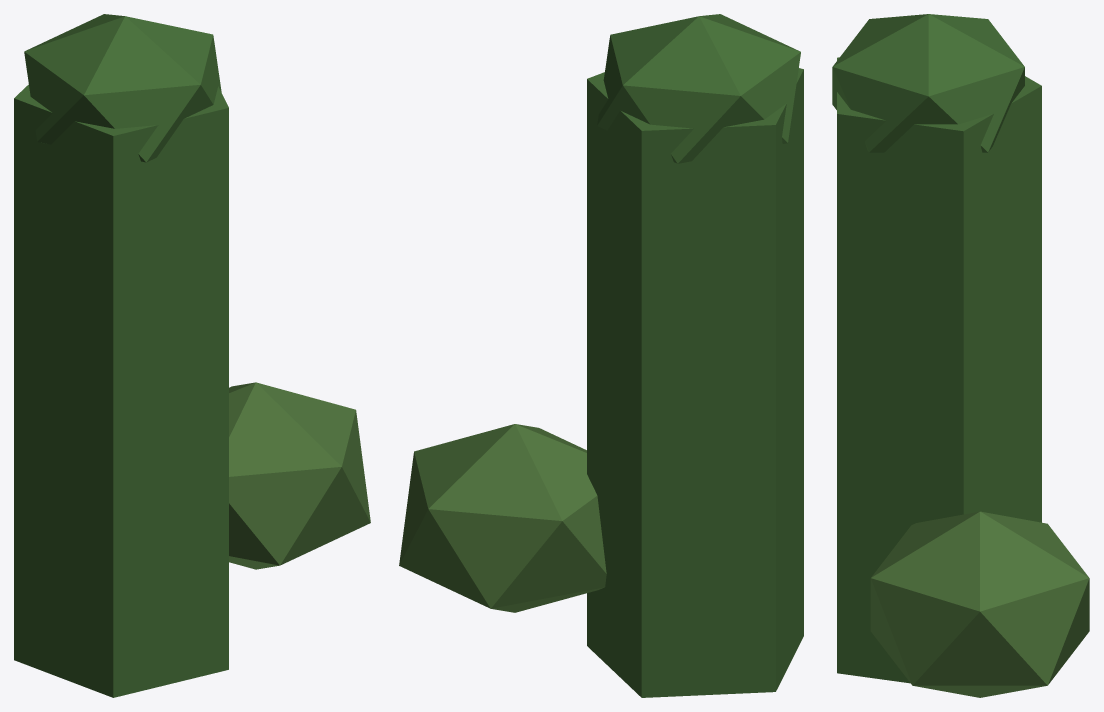
File: bg_desert_cactus_3_lod1.glb
3 views of the same model, side by side, from view 1: azimuth 30°, elevation 25°; view 2: azimuth 150°, elevation 25°; view 3: azimuth 270°, elevation 25° (orthographic).
Visible parts, largest first — view 1: body; view 2: body; view 3: body.
Boxes of the visible parts, <box> form: body: <box>14,14,370,697</box>; body: <box>399,14,803,697</box>; body: <box>832,14,1089,697</box>.
Bounding box in the file's own units: 0.7828 × 1.35 × 0.4998.
